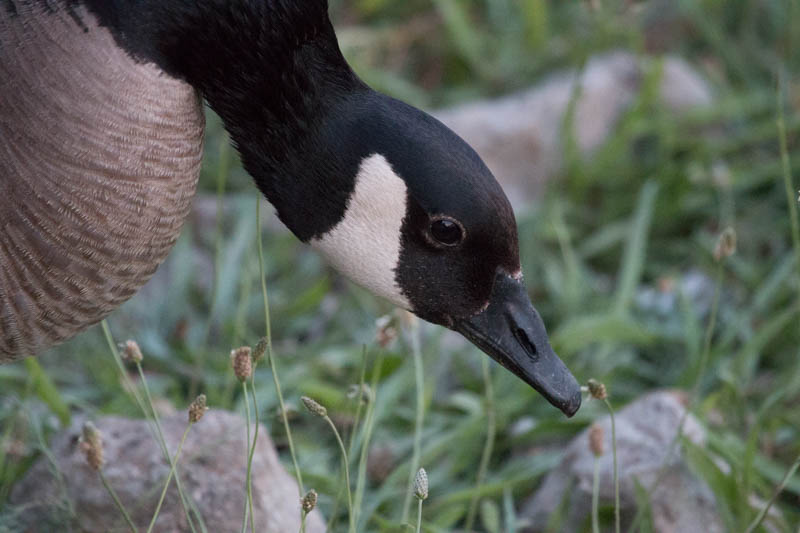goose-head: (259, 88, 583, 418)
